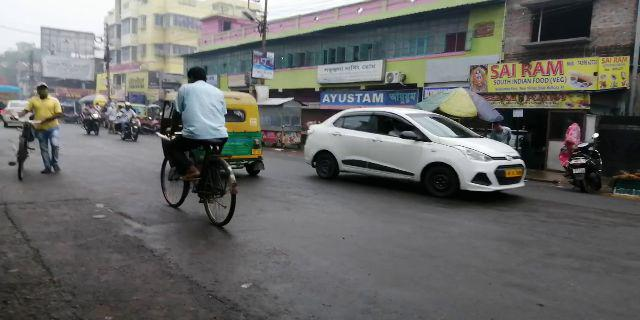Autorickshaw: (221, 90, 265, 180)
Car: (303, 105, 528, 189)
Cycle: (156, 70, 246, 235), (10, 112, 45, 181)
Motorbike: (115, 101, 143, 141), (81, 100, 103, 137)
